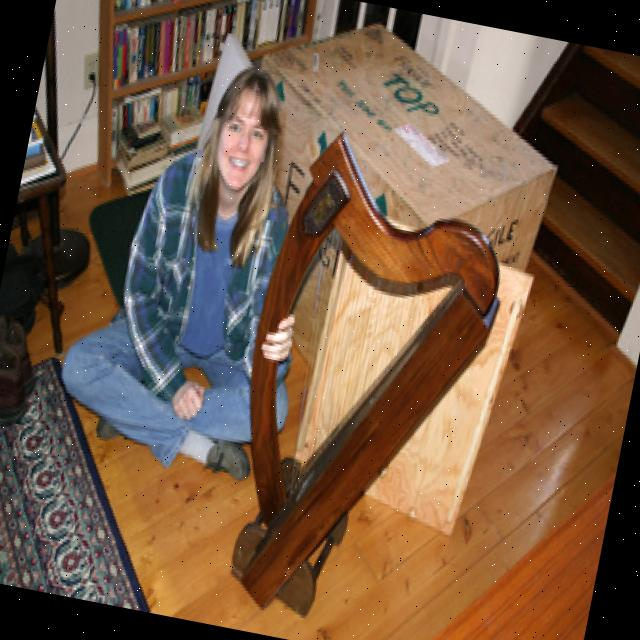harp: (204, 118, 531, 640)
